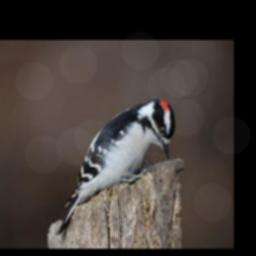Woodpecker: (54, 96, 177, 237)
